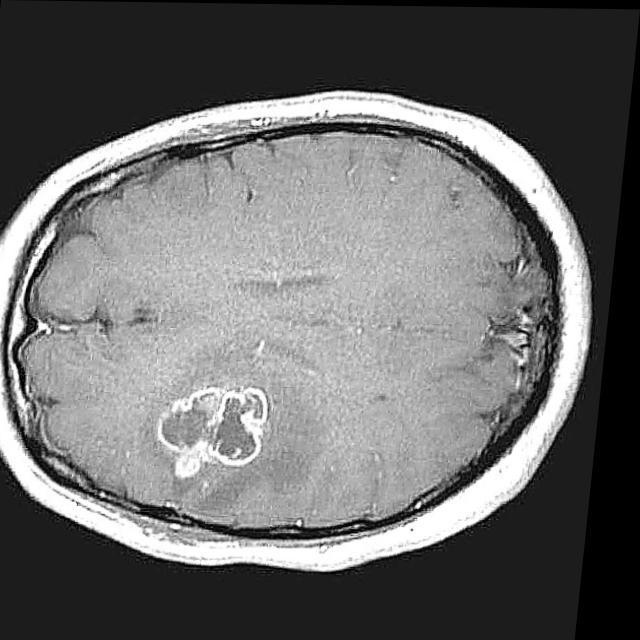Tumor: (167, 386, 272, 476)
